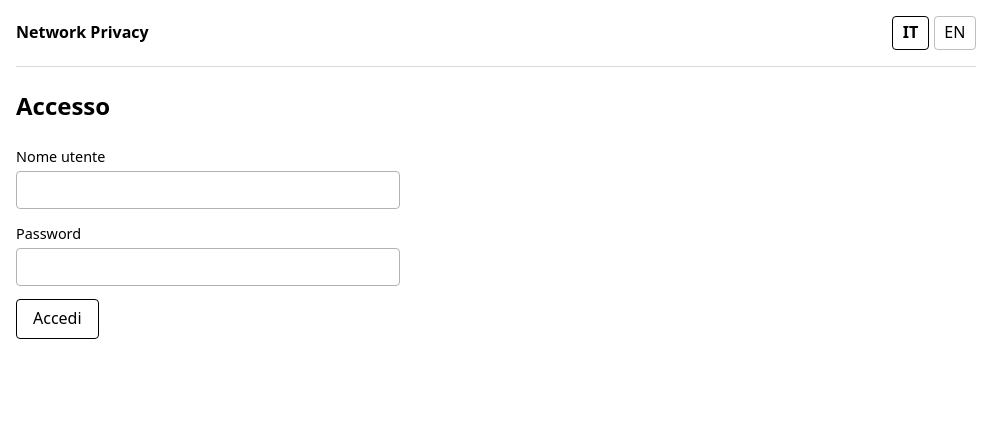
it: F1: four situations, four messages › says how long to wait when there were too many attempts
This screenshot has width=993, height=436.
Type "maria" into the field named "username" at (208, 190), box [16,171,400,209]
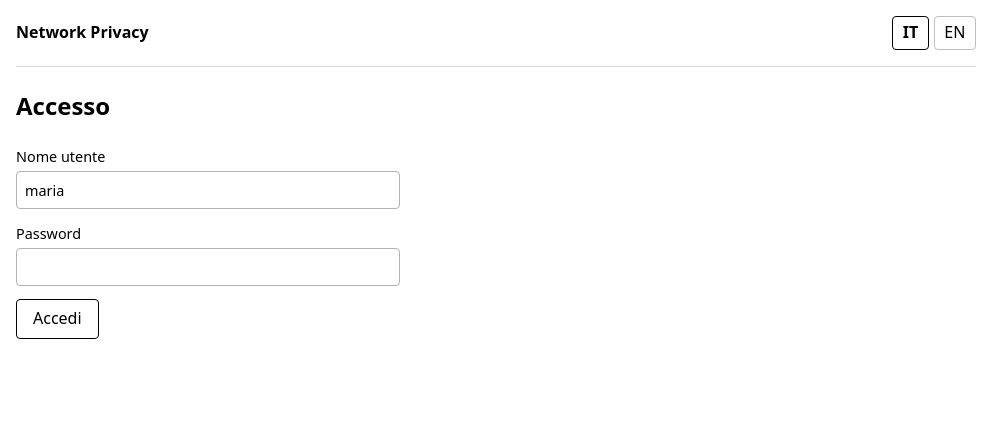
Type "a-password-for-the-tests" into the password field named "password" at (208, 267), box [16,248,400,286]
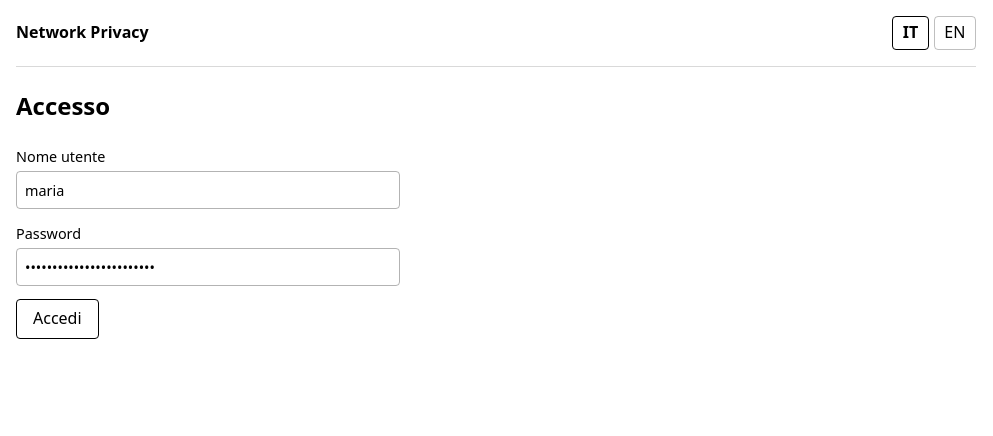
Submit the form, box [16,145,400,339]
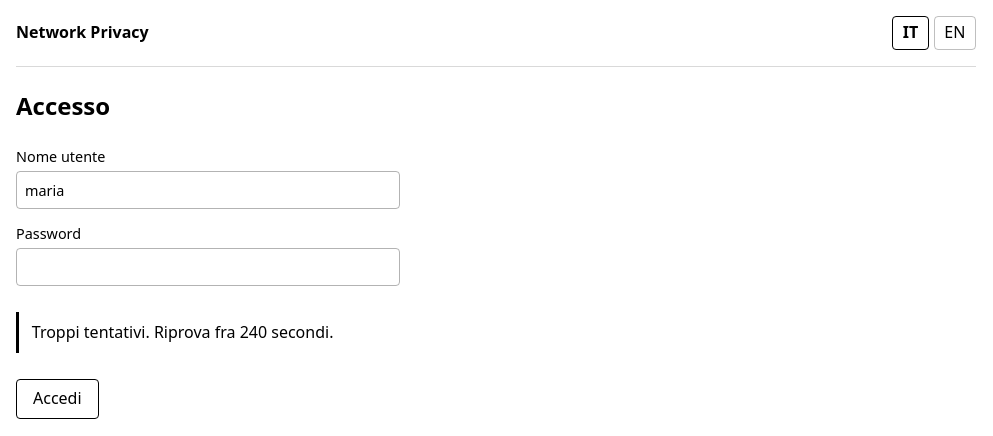
Now the message "Troppi tentativi. Riprova fra 240 secondi." is shown, box [16,312,400,353]
